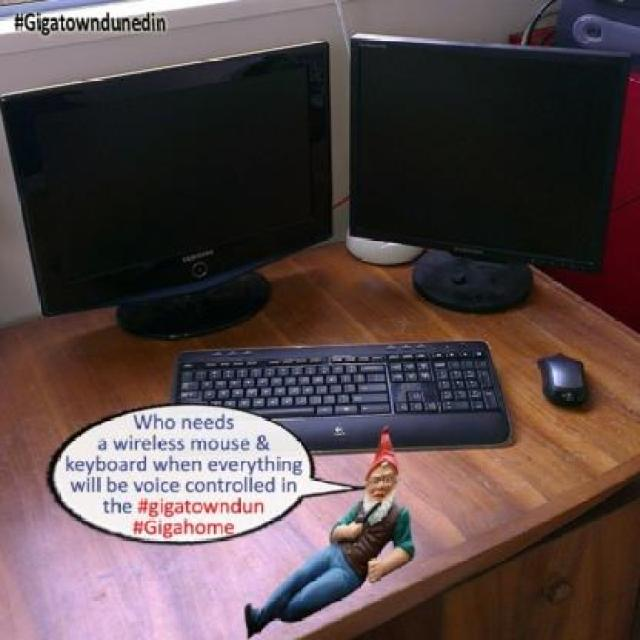komputer: (7, 41, 345, 342), (352, 36, 631, 311)
mouse: (540, 354, 597, 405)
